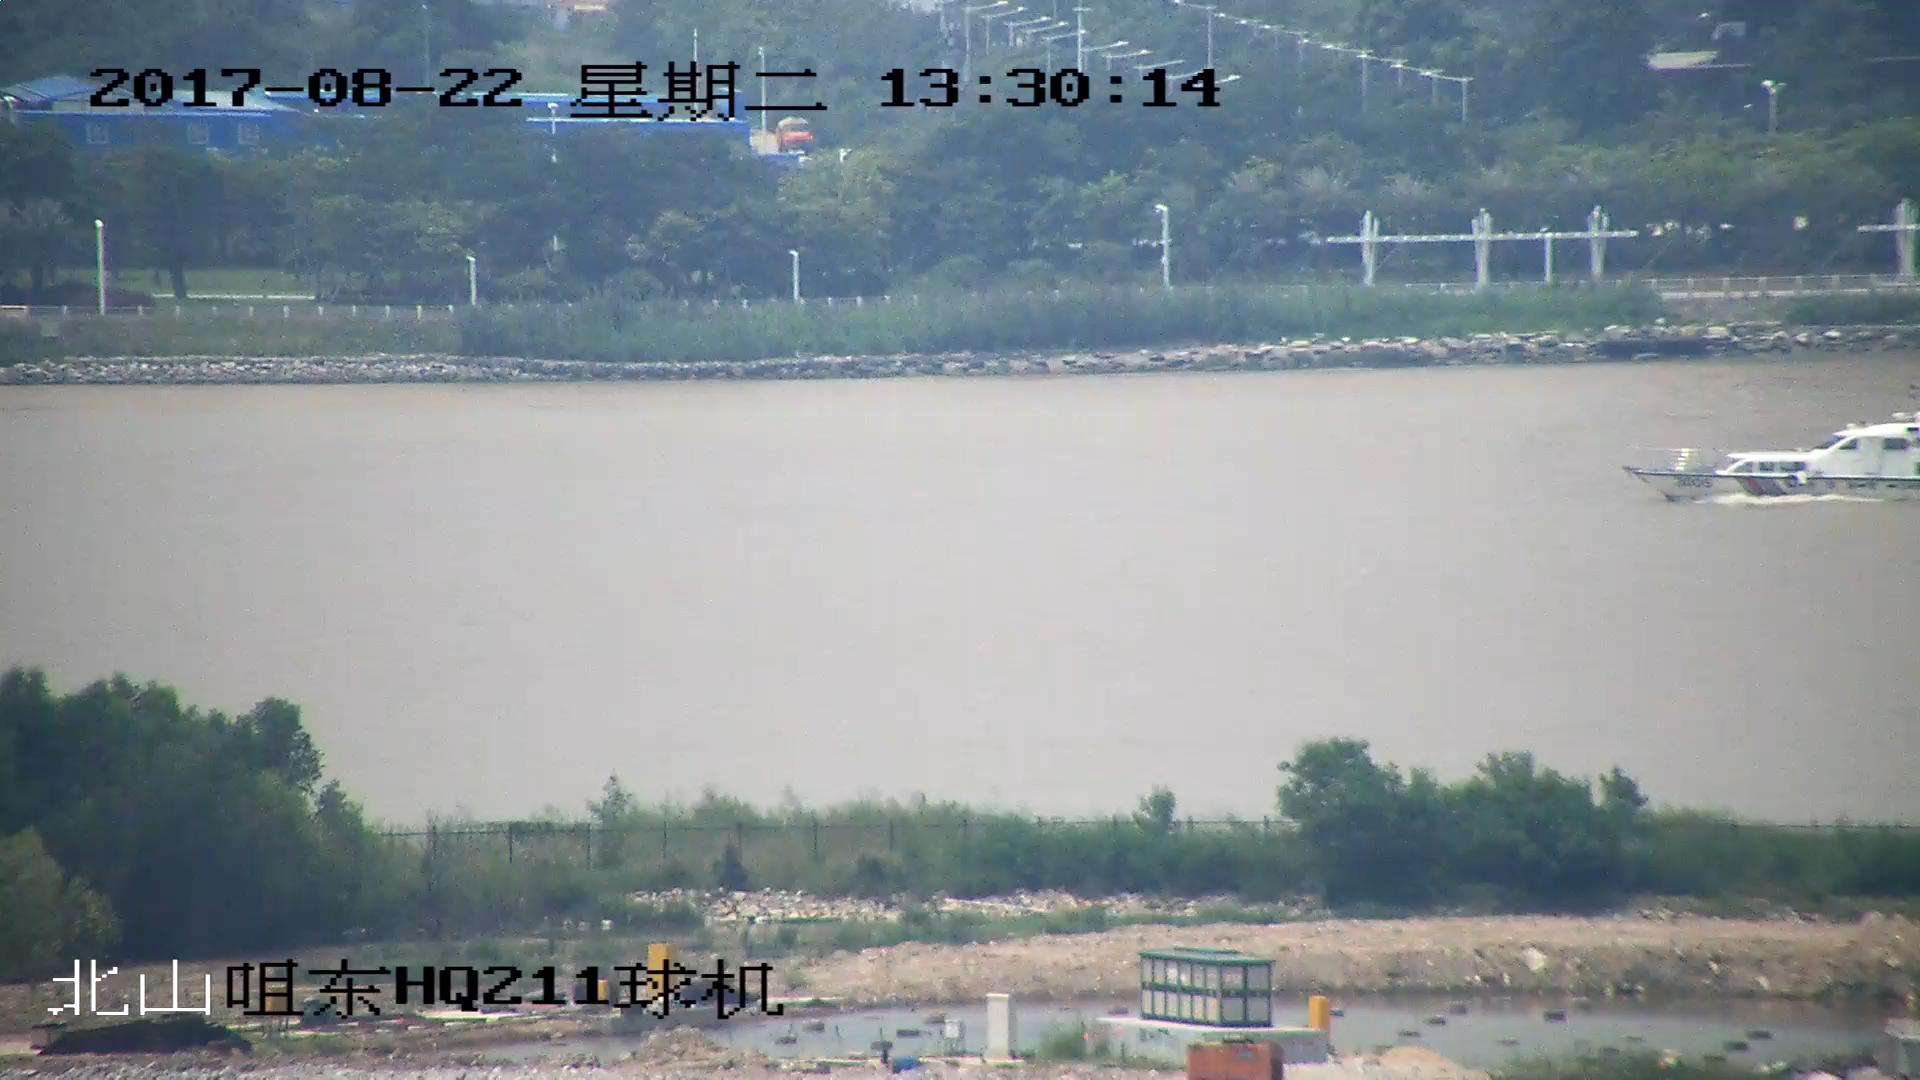passenger ship: (1626, 407, 1920, 504)
